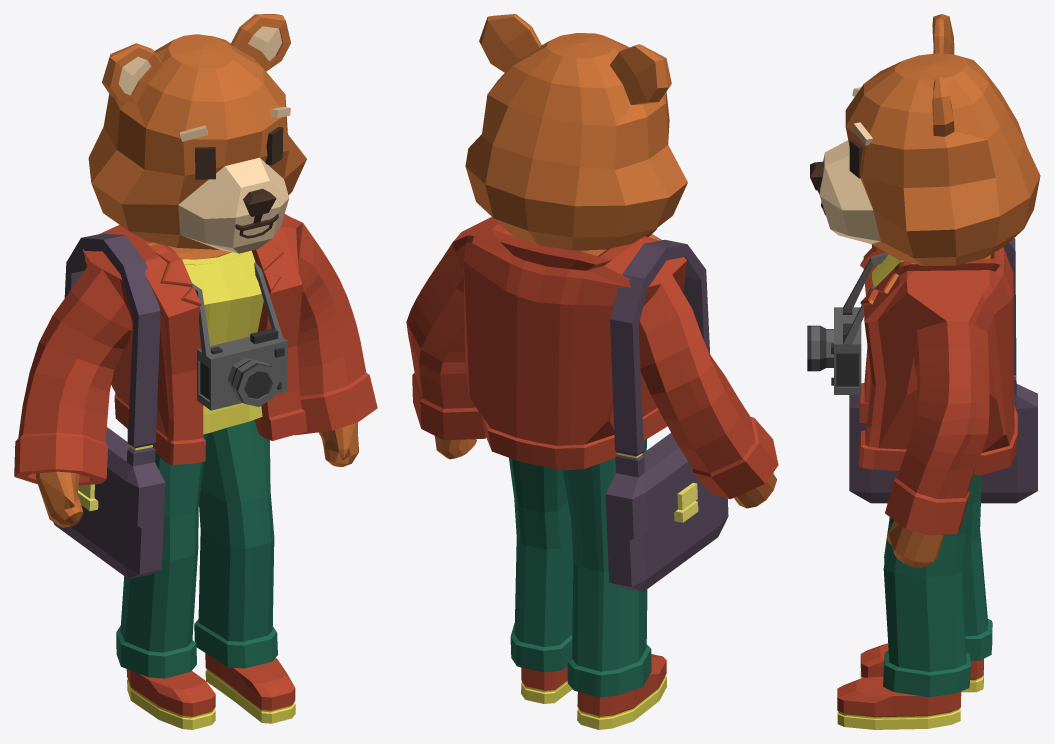
The model's file is journalist_mesh.fbx.
The picture shows the model from 3 angles, left to right: view 1: azimuth 30°, elevation 25°; view 2: azimuth 150°, elevation 25°; view 3: azimuth 270°, elevation 25°; orthographic projection. The views are drawn at different scales.
Parts seen in each view (by area): view 1: body, Head, eyes; view 2: body, Head; view 3: body, Head, eyes.
Part boxes in pixels (bbox=[...]): body: bbox=[14, 214, 377, 729]; Head: bbox=[88, 14, 306, 253]; eyes: bbox=[195, 126, 283, 179]; body: bbox=[406, 217, 778, 729]; Head: bbox=[465, 14, 687, 251]; body: bbox=[807, 238, 1037, 729]; Head: bbox=[810, 14, 1040, 265]; eyes: bbox=[849, 139, 862, 178].
Bounding box in the file's own units: 1.21 × 2.15 × 0.6937.
